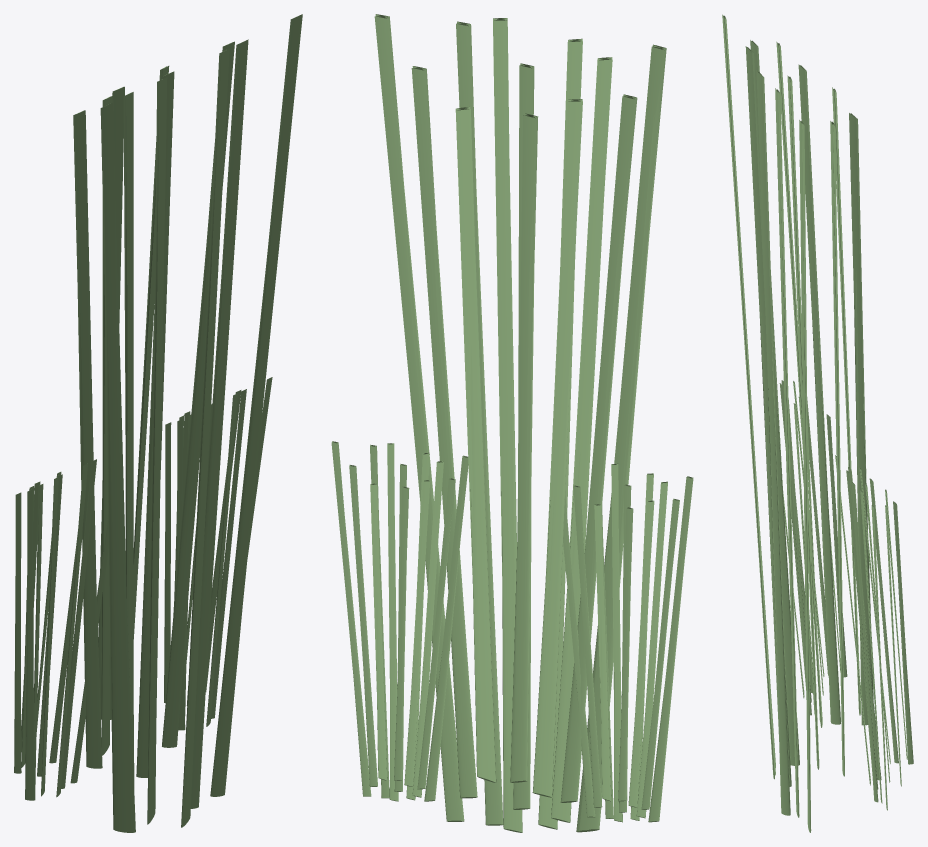
Rendered from coral-grass.obj.
The picture shows the model from 3 angles, left to right: view 1: azimuth 30°, elevation 25°; view 2: azimuth 150°, elevation 25°; view 3: azimuth 270°, elevation 25°; orthographic projection. The views are drawn at different scales.
Visible parts, largest first — view 1: Merged_Meshes6; view 2: Merged_Meshes6; view 3: Merged_Meshes6.
Boxes of the visible parts, x1,y1,x2,y2 form: Merged_Meshes6: (14, 14, 302, 832); Merged_Meshes6: (331, 14, 693, 832); Merged_Meshes6: (722, 14, 913, 832).
Size of the model in its own units: 0.8371 by 2.09 by 0.4794.
